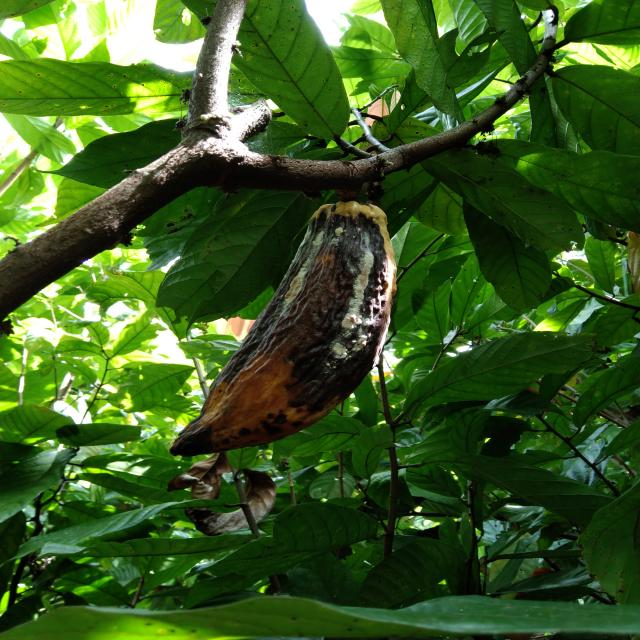Monilia: (168, 203, 400, 457)
